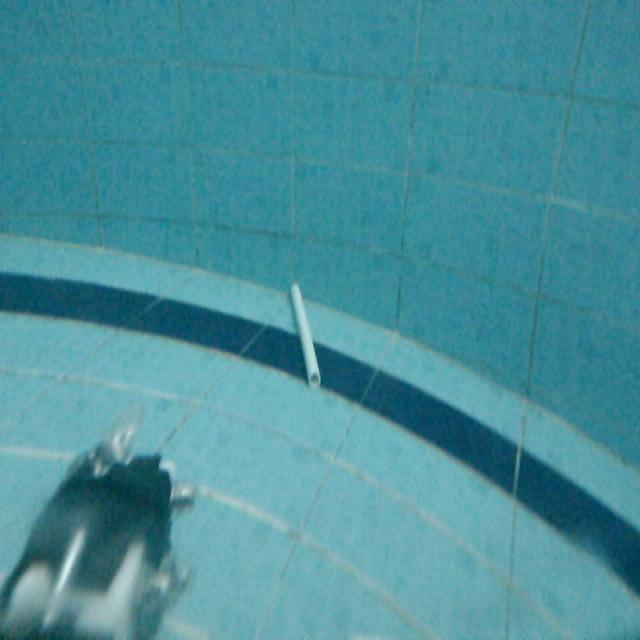Cube: (287, 277, 324, 392)
